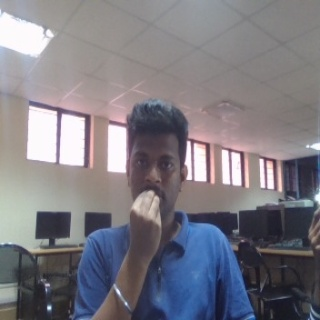Food: (127, 189, 165, 269)
